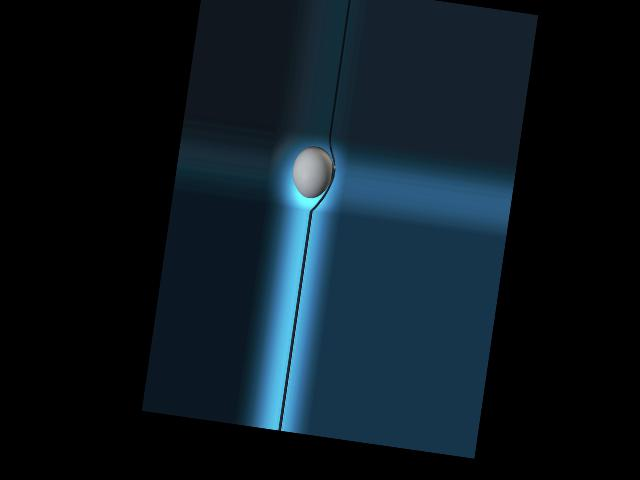egg: (289, 143, 336, 200)
